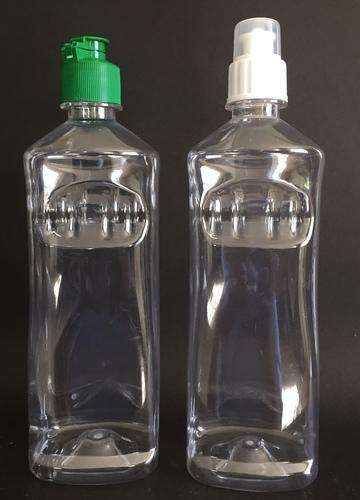plastic_bottle: (174, 13, 335, 496), (13, 32, 169, 489)
